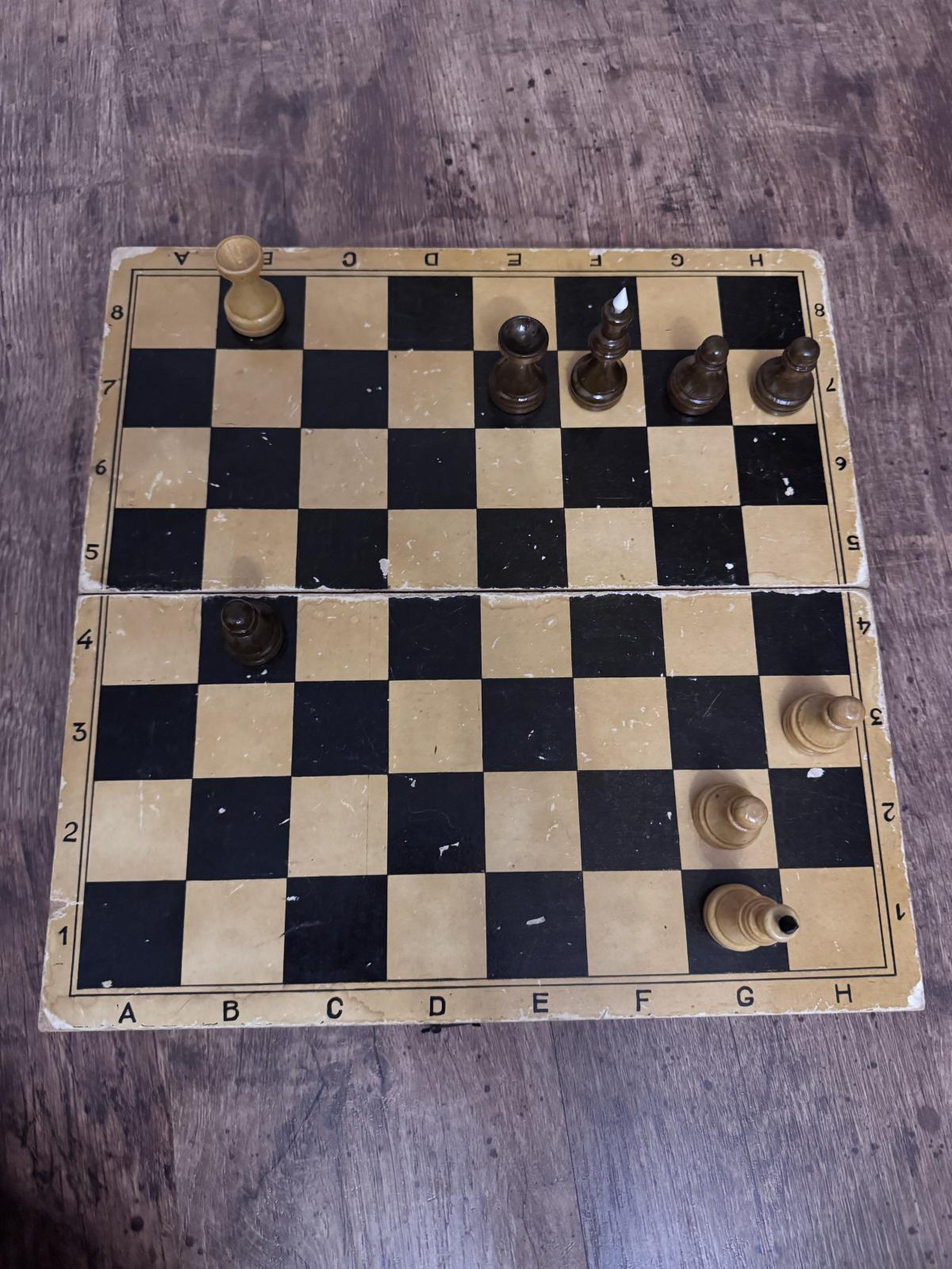Chess-Board: (77, 276, 886, 989)
